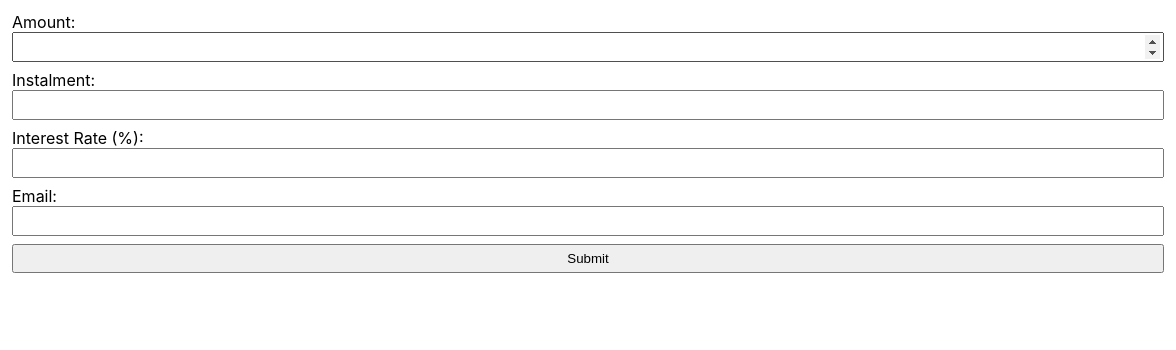
it: loan form › renders all the form fields
Expected: the text "Amount:" is shown, [12,12,75,32]
Expected: the text "Interest Rate (%):" is shown, [12,128,144,148]
Type "100" into the number field with test id "amount".
click(588, 47); type("100")  # box [12,32,1164,62]
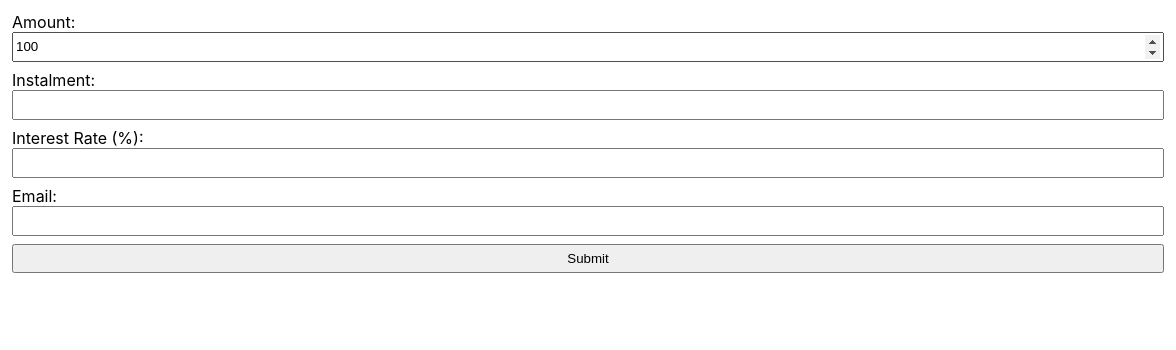
Type "101" into the number field with test id "interestRate".
click(588, 163); type("101")  # box [12,148,1164,178]
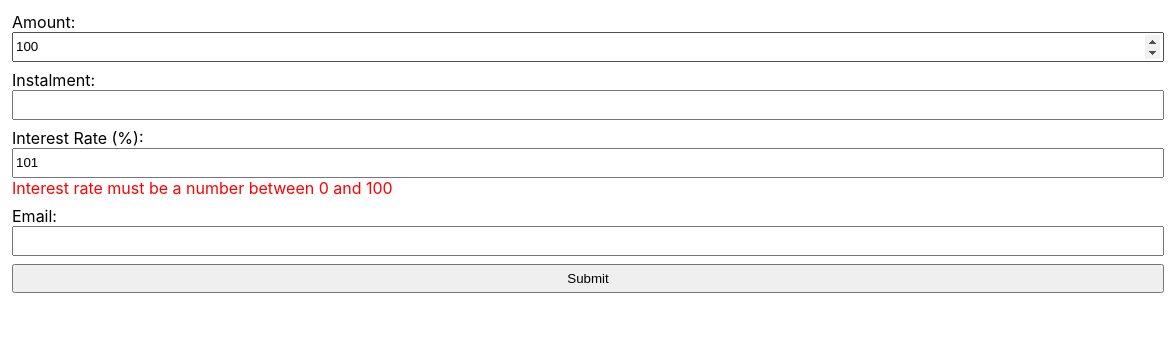
Result: the text "Interest rate must be a number between 0 and 100" is shown at [12,178,393,198]
Type "100" into the number field with test id "instalment".
click(588, 105); type("100")  # box [12,90,1164,120]
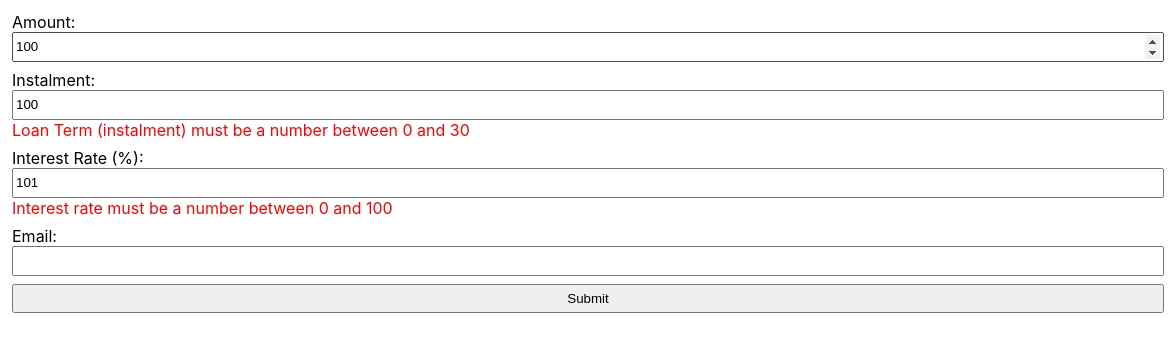
Result: the text "Loan Term (instalment) must be a number between 0 and 30" is shown at [12,120,470,140]
Type "invalid email" into the field with test id "email".
click(588, 261); type("invalid email")  # box [12,246,1164,276]
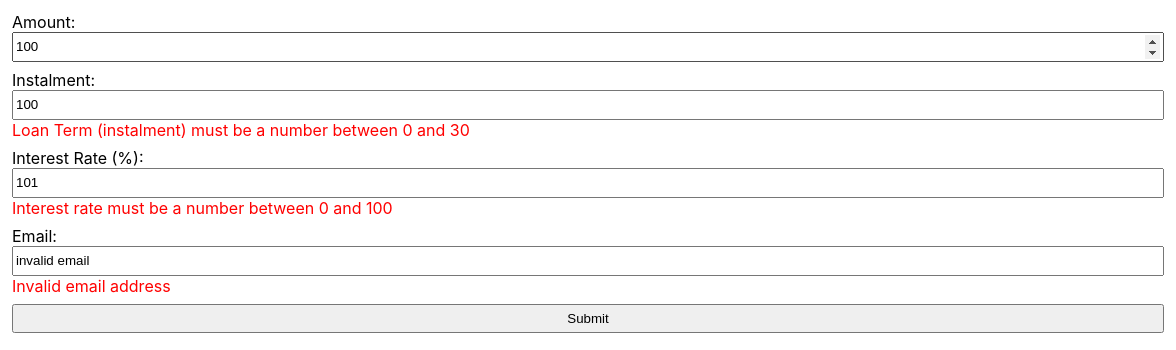
Result: the text "Invalid email address" is shown at [12,276,171,296]
